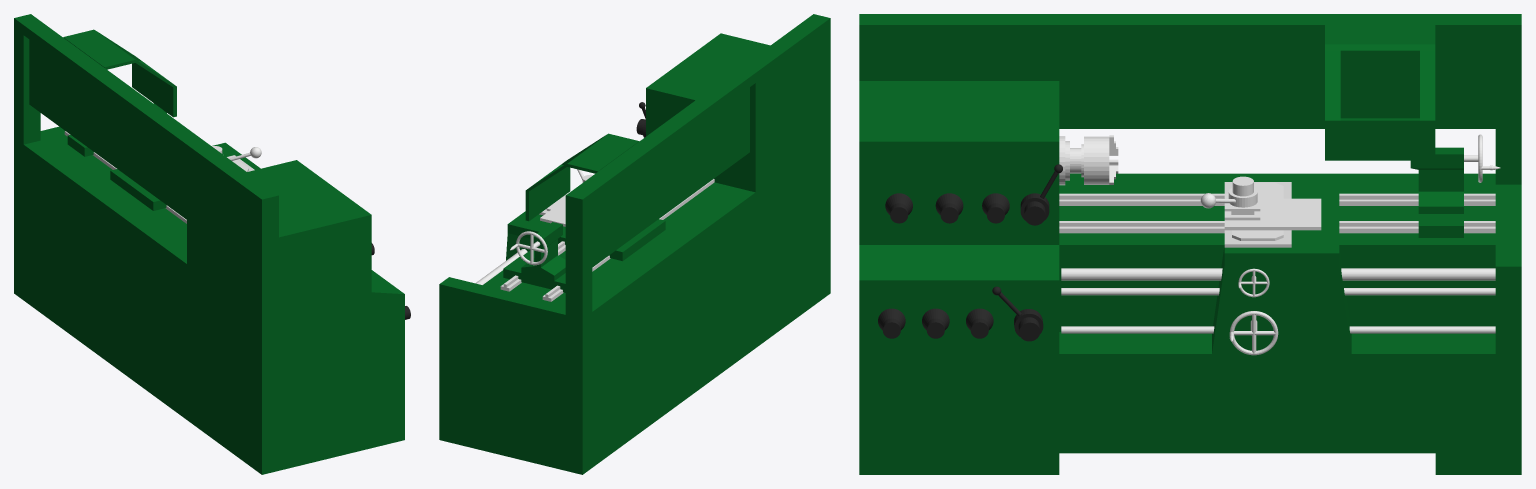
The picture shows the model from 3 angles, left to right: view 1: azimuth 30°, elevation 25°; view 2: azimuth 150°, elevation 25°; view 3: azimuth 270°, elevation 25°; orthographic projection. The views are drawn at different scales.
Parts seen in each view (by area): view 1: Cube, Куб.015, Куб.002; view 2: Cube, Куб.015, Куб.014, Куб.002, Тор, Куб.001; view 3: Cube, Куб.002, Куб.015, Цилиндр.002, Куб.014, Куб, Куб.001, Цилиндр.001, Цилиндр.003, Куб.007, Цилиндр, Цилиндр.017 (+5 smaller).
Boxes of the visible parts, left/top/right/bottom form: Cube: left=14, top=14, right=404, bottom=474; Куб.015: left=63, top=29, right=176, bottom=117; Куб.002: left=110, top=142, right=260, bottom=210; Cube: left=439, top=14, right=830, bottom=474; Куб.015: left=525, top=133, right=639, bottom=221; Куб.014: left=503, top=222, right=565, bottom=292; Куб.002: left=506, top=211, right=665, bottom=261; Тор: left=510, top=231, right=547, bottom=265; Куб.001: left=542, top=179, right=714, bottom=301; Cube: left=859, top=14, right=1521, bottom=474; Куб.002: left=1212, top=178, right=1351, bottom=353; Куб.015: left=1325, top=24, right=1435, bottom=160; Цилиндр.002: left=1061, top=268, right=1495, bottom=280; Куб.014: left=1410, top=147, right=1463, bottom=237; Куб: left=1059, top=221, right=1495, bottom=233; Куб.001: left=1059, top=193, right=1495, bottom=205; Цилиндр.001: left=1061, top=288, right=1495, bottom=295; Цилиндр.003: left=1059, top=135, right=1118, bottom=185; Куб.007: left=1224, top=198, right=1321, bottom=230; Цилиндр: left=1061, top=326, right=1495, bottom=333; Цилиндр.017: left=1200, top=176, right=1257, bottom=208.
Size of the model in its own units: 241 by 368 by 600.
